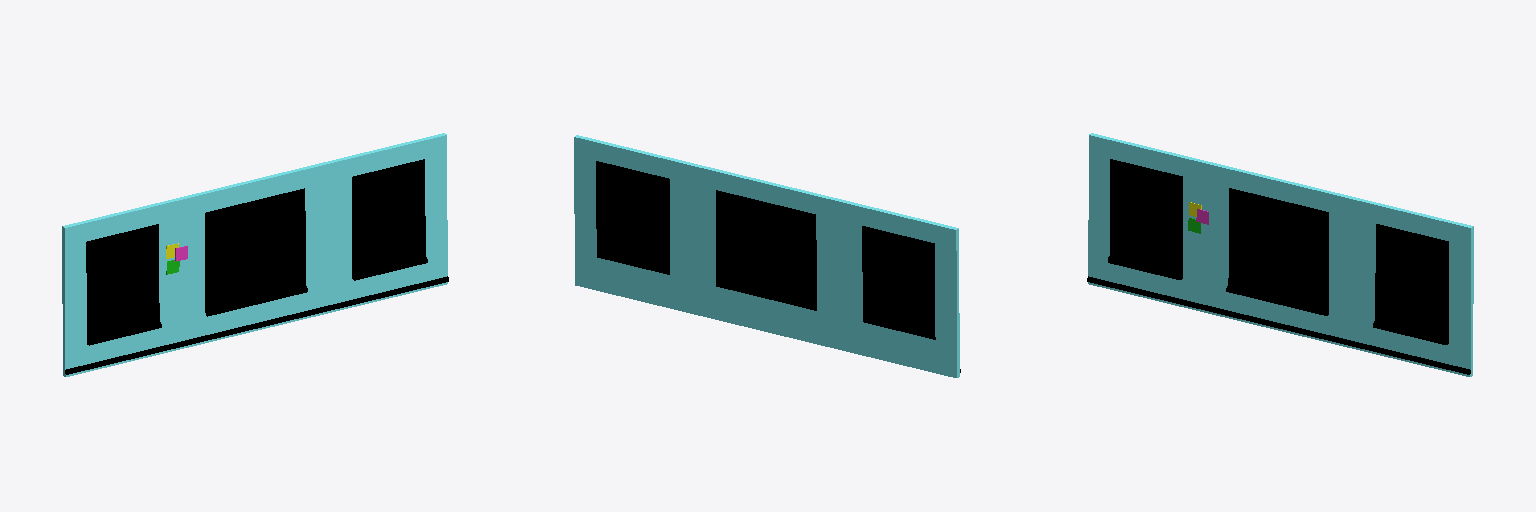
The model's file is wall_vthree_RA.obj.
3 views of the same model, side by side, from view 1: azimuth 30°, elevation 25°; view 2: azimuth 150°, elevation 25°; view 3: azimuth 330°, elevation 25° (orthographic).
Visible parts, largest first — view 1: wall_vthree_RA:pCube16; view 2: wall_vthree_RA:pCube16; view 3: wall_vthree_RA:pCube16.
Boxes of the visible parts, <box> form: wall_vthree_RA:pCube16: <box>62,133,448,376</box>; wall_vthree_RA:pCube16: <box>574,135,960,377</box>; wall_vthree_RA:pCube16: <box>1087,133,1473,376</box>.
Bounding box in the file's own units: 7.17 × 2.67 × 0.1755.